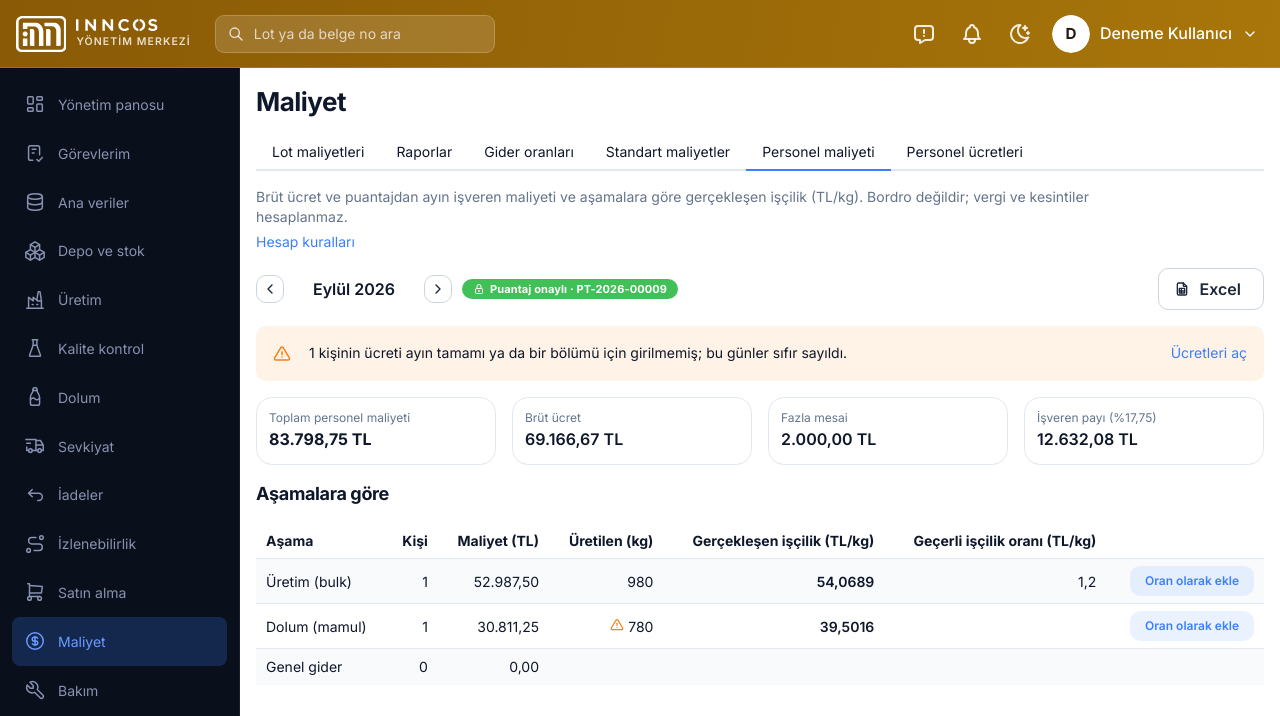
personel maliyeti › onaylı ayın gerçekleşen işçiliği oran olarak eklenir ve pencere kapanır
What coordinates should you click on to do the following:
click the button with aria-label "Oran olarak ekle: Üretim (bulk)"
I would click on:
 (1192, 581)
Its box is [1130, 566, 1254, 596].
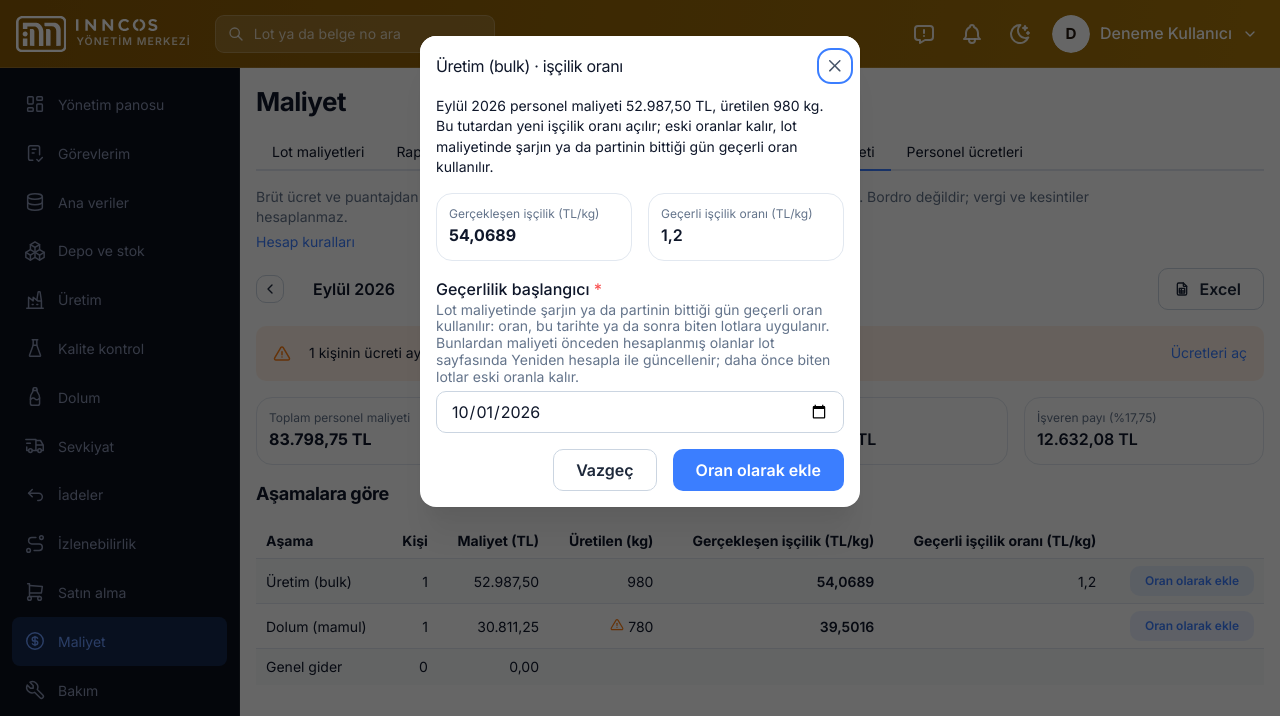
Expected: the text "980 kg" is shown, [436, 97, 824, 175]
Expected: the date field labelled "Geçerlilik başlangıcı *" holds "2026-10-01", [436, 391, 844, 433]
What coordinates should you click on to do the following:
click the button "Oran olarak ekle"
I would click on:
 (758, 470)
Its box is [673, 449, 844, 491].
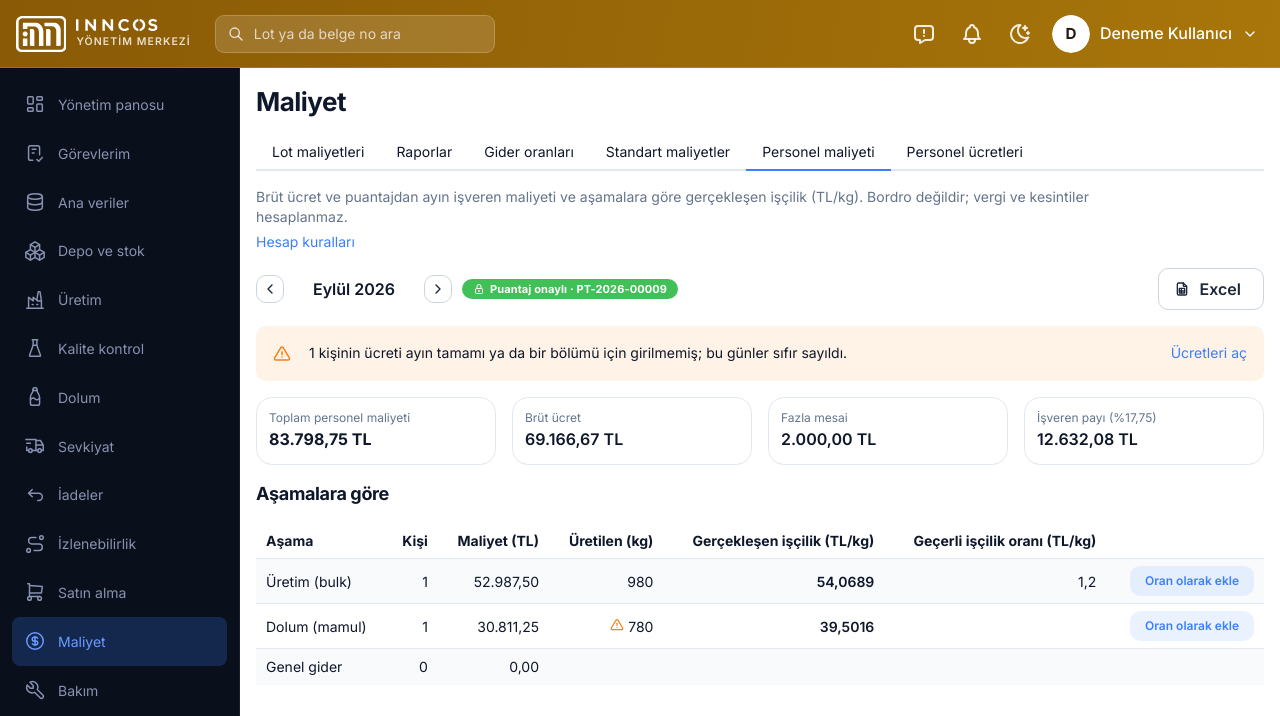
Expected: the dialog is gone
